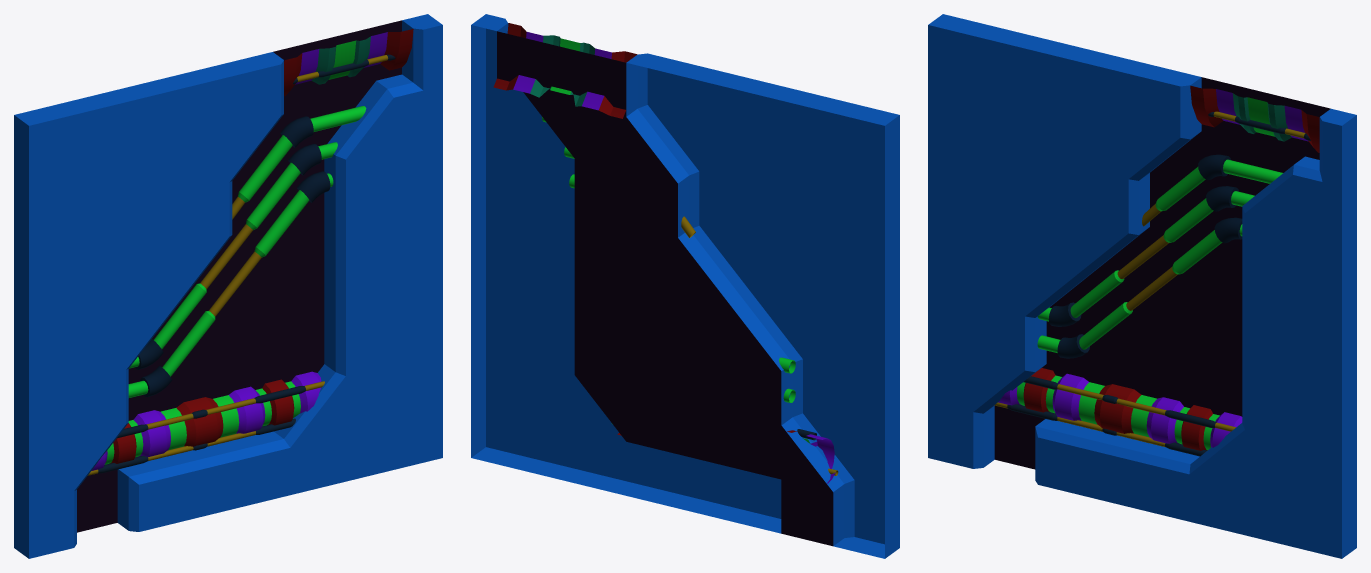
The model's file is OBJ_6_Mur.fbx.
3 renders of one model, left to right at view 1: azimuth 30°, elevation 25°; view 2: azimuth 150°, elevation 25°; view 3: azimuth 330°, elevation 25°, orthographic.
Parts seen in each view (by area): view 1: OBJ_6_Mur; view 2: OBJ_6_Mur; view 3: OBJ_6_Mur.
Part boxes in pixels (x1,y1,x2,y2): OBJ_6_Mur: (14, 14, 442, 558); OBJ_6_Mur: (471, 14, 899, 558); OBJ_6_Mur: (928, 14, 1356, 558).
Bounding box in the file's own units: 16 × 16 × 1.39.
